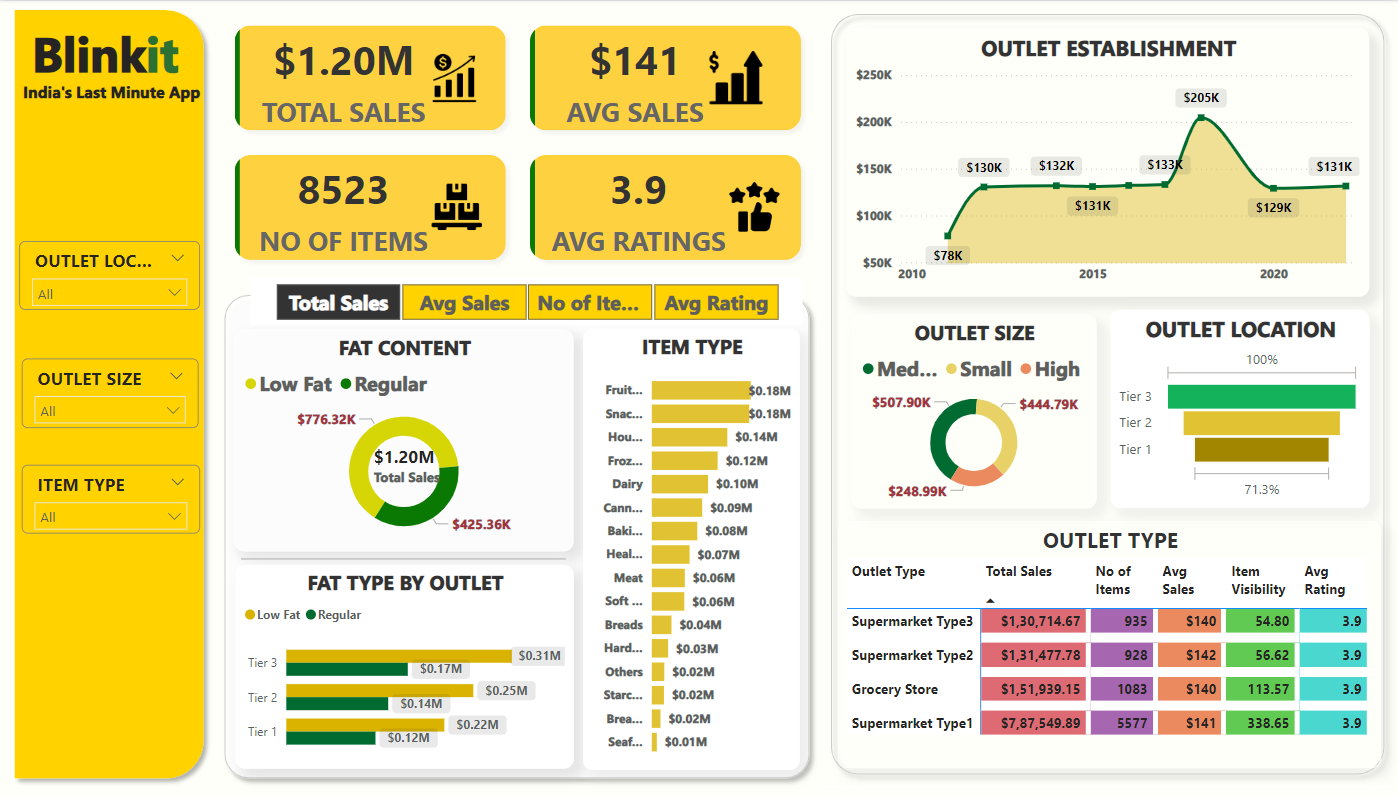

This screenshot's page, from the dashboard's own definition file:
{"tool":"powerbi","page":{"name":"Page 1","canvas":[1400,800],"ordinal":0},"visuals":[{"type":"shape","box":[7.4,0,207.2,786.6],"z":0},{"type":"textbox","box":[16.5,14,181.9,120.8],"z":1000},{"type":"textbox","box":[16.5,75,194.6,61],"z":2000},{"type":"cardVisual","fields":{"Data":["BlinkIT Grocery Data.Total Sales","BlinkIT Grocery Data.Average Sales","BlinkIT Grocery Data.No of Items","BlinkIT Grocery Data.Avg Rating"]},"box":[219.6,7.4,600.5,269.2],"z":3000},{"type":"shape","box":[217.1,285.4,603,501.2],"z":4000},{"type":"donutChart","title":"FAT CONTENT","fields":{"Y":["BlinkIT Grocery Data.Total Sales"],"Category":["BlinkIT Grocery Data.Item Fat Content"]},"box":[236.6,328.1,339.6,221.3],"z":5000},{"type":"slicer","fields":{"Values":["Metrics.Metrics"]},"box":[253.1,276,552,48.3],"z":6000},{"type":"cardVisual","fields":{"Data":["BlinkIT Grocery Data.Total Sales"]},"box":[358.6,394.5,142.7,139],"z":7000},{"type":"clusteredBarChart","title":"FAT TYPE BY OUTLET","fields":{"Y":["BlinkIT Grocery Data.Total Sales"],"Category":["BlinkIT Grocery Data.Outlet Location Type"],"Series":["BlinkIT Grocery Data.Item Fat Content"]},"box":[237.1,564.3,338.6,204.3],"z":8000},{"type":"shape","box":[235.3,536.7,340.8,43.2],"z":9000},{"type":"barChart","title":"ITEM TYPE","fields":{"Y":["BlinkIT Grocery Data.Total Sales"],"Category":["BlinkIT Grocery Data.Item Type"]},"box":[585.6,327.5,217.1,441.7],"z":11000},{"type":"shape","box":[820.1,0,579.4,786.6],"z":12000},{"type":"lineChart","title":"OUTLET ESTABLISHMENT","fields":{"Y":["BlinkIT Grocery Data.Total Sales"],"Category":["BlinkIT Grocery Data.Outlet Establishment Year"]},"box":[848.6,27.3,522.3,268],"z":13000},{"type":"donutChart","title":"OUTLET SIZE","fields":{"Y":["BlinkIT Grocery Data.Total Sales"],"Category":["BlinkIT Grocery Data.Outlet Size"]},"box":[853.6,313.9,244.4,193.5],"z":15000},{"type":"funnel","title":"OUTLET LOCATION","fields":{"Y":["BlinkIT Grocery Data.Total Sales"],"Category":["BlinkIT Grocery Data.Outlet Location Type"]},"box":[1112.9,308.9,259.3,198.5],"z":16000},{"type":"pivotTable","title":"OUTLET TYPE","fields":{"Rows":["BlinkIT Grocery Data.Outlet Type"],"Values":["BlinkIT Grocery Data.Total Sales","BlinkIT Grocery Data.No of Items","BlinkIT Grocery Data.Avg Sales","Sum(BlinkIT Grocery Data.Item Visibility)","BlinkIT Grocery Data.Avg Rating"]},"box":[840,519.9,543.4,246.9],"z":17000},{"type":"slicer","fields":{"Values":["BlinkIT Grocery Data.Outlet Location Type"]},"box":[21.6,240.4,180.6,68.7],"z":18000},{"type":"slicer","fields":{"Values":["BlinkIT Grocery Data.Outlet Size"]},"box":[24.2,357.4,176.8,69.9],"z":19000},{"type":"slicer","fields":{"Values":["BlinkIT Grocery Data.Item Type"]},"box":[24.2,464.2,178.1,68.7],"z":20000}]}

Visuals, with their boxes in screenshot pixels (x1, y1, x2, y2), scaled from the page's 1400x800 canvas onto the 1398x796 screenshot:
shape: [7,0,214,783]
textbox: [16,14,198,134]
textbox: [16,75,211,135]
cardVisual - BlinkIT Grocery Data.Total Sales x BlinkIT Grocery Data.Average Sales: [219,7,819,275]
shape: [217,284,819,783]
"FAT CONTENT" donutChart: [236,326,575,547]
slicer - Metrics.Metrics: [253,275,804,323]
cardVisual - BlinkIT Grocery Data.Total Sales: [358,393,501,531]
"FAT TYPE BY OUTLET" clusteredBarChart: [237,561,575,765]
shape: [235,534,575,577]
"ITEM TYPE" barChart: [585,326,802,765]
shape: [819,0,1397,783]
"OUTLET ESTABLISHMENT" lineChart: [847,27,1369,294]
"OUTLET SIZE" donutChart: [852,312,1096,505]
"OUTLET LOCATION" funnel: [1111,307,1370,505]
"OUTLET TYPE" pivotTable: [839,517,1381,763]
slicer - BlinkIT Grocery Data.Outlet Location Type: [22,239,202,308]
slicer - BlinkIT Grocery Data.Outlet Size: [24,356,201,425]
slicer - BlinkIT Grocery Data.Item Type: [24,462,202,530]
